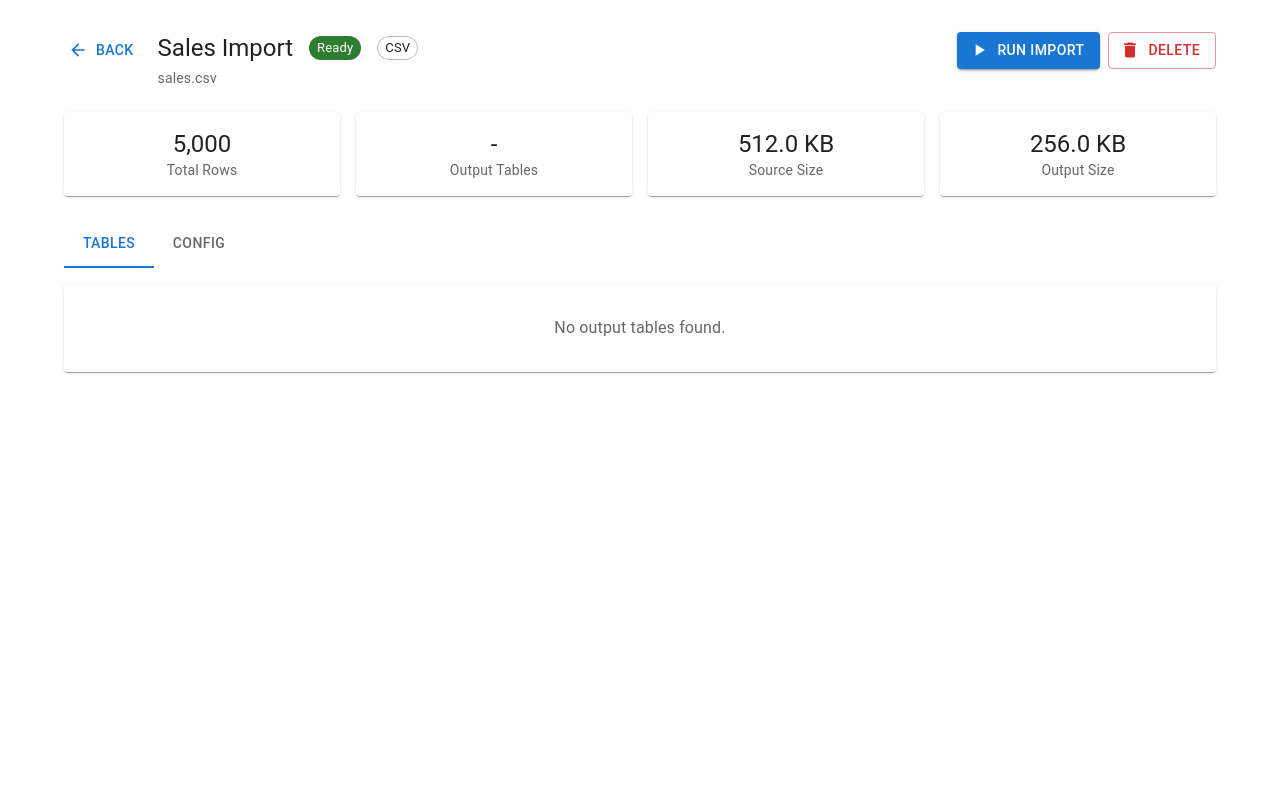
DataImportDetailPage › Delete flow › opens delete confirmation dialog when Delete button is clicked
Click the button "Delete": [1162, 50] box [1108,32,1216,68]
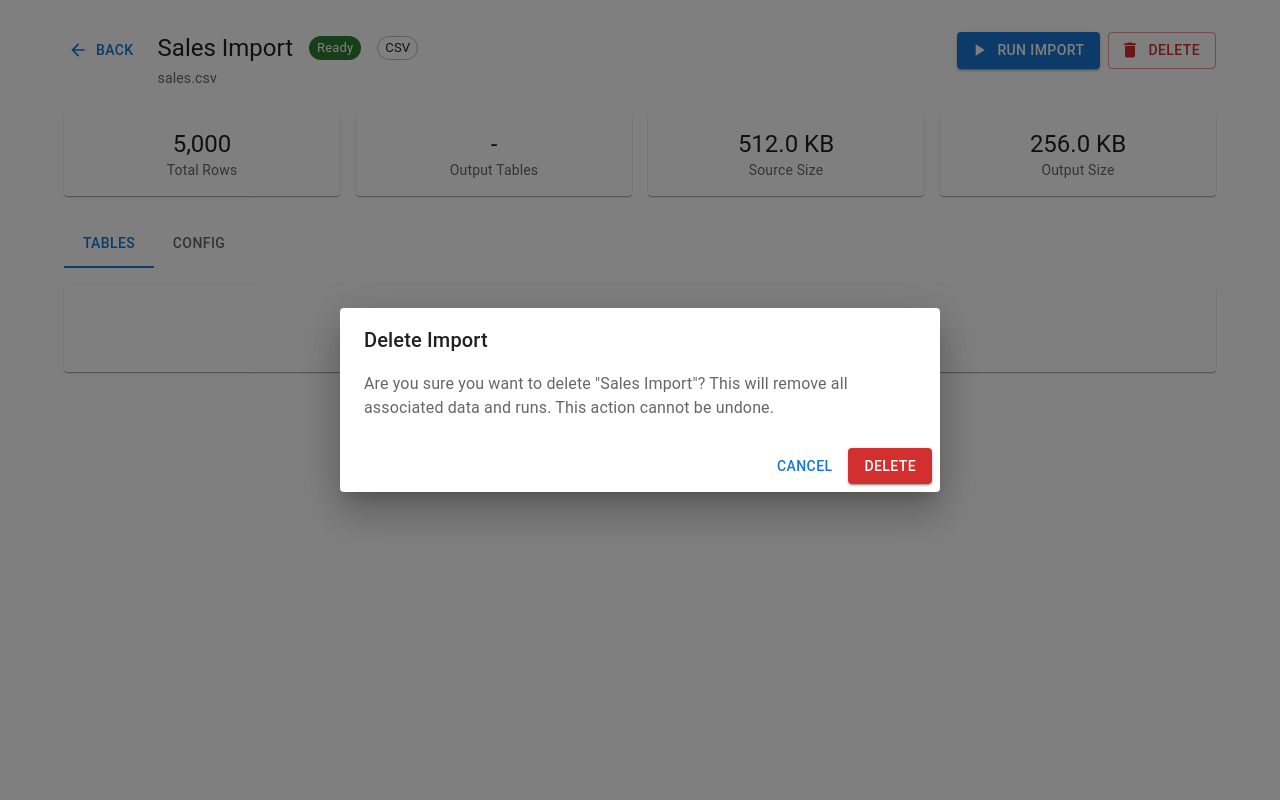
Check: the dialog is shown, box [340,308,940,492]
Check: the heading "Delete Import" is shown, box [364,328,488,352]
